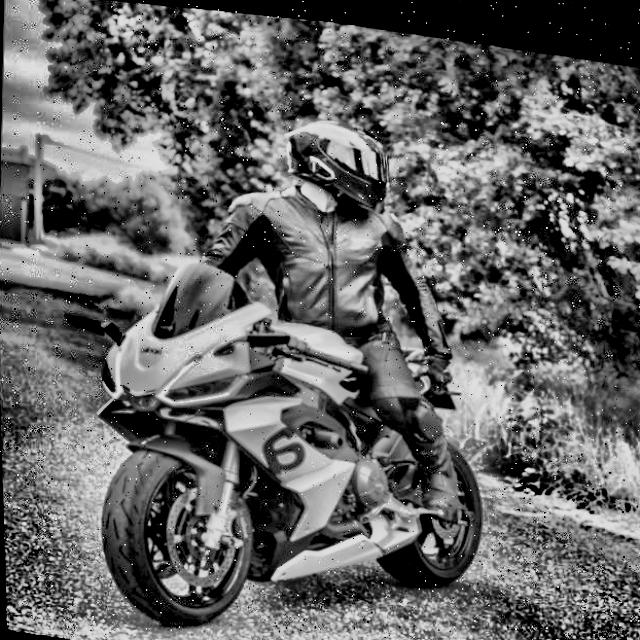Helmet: (274, 102, 399, 214)
